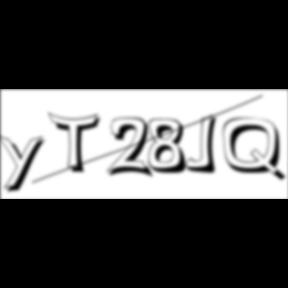2: (107, 117, 157, 181)
8: (148, 117, 194, 176)
J: (184, 114, 224, 176)
Q: (222, 117, 288, 184)
T: (48, 112, 106, 176)
y: (0, 132, 50, 196)
